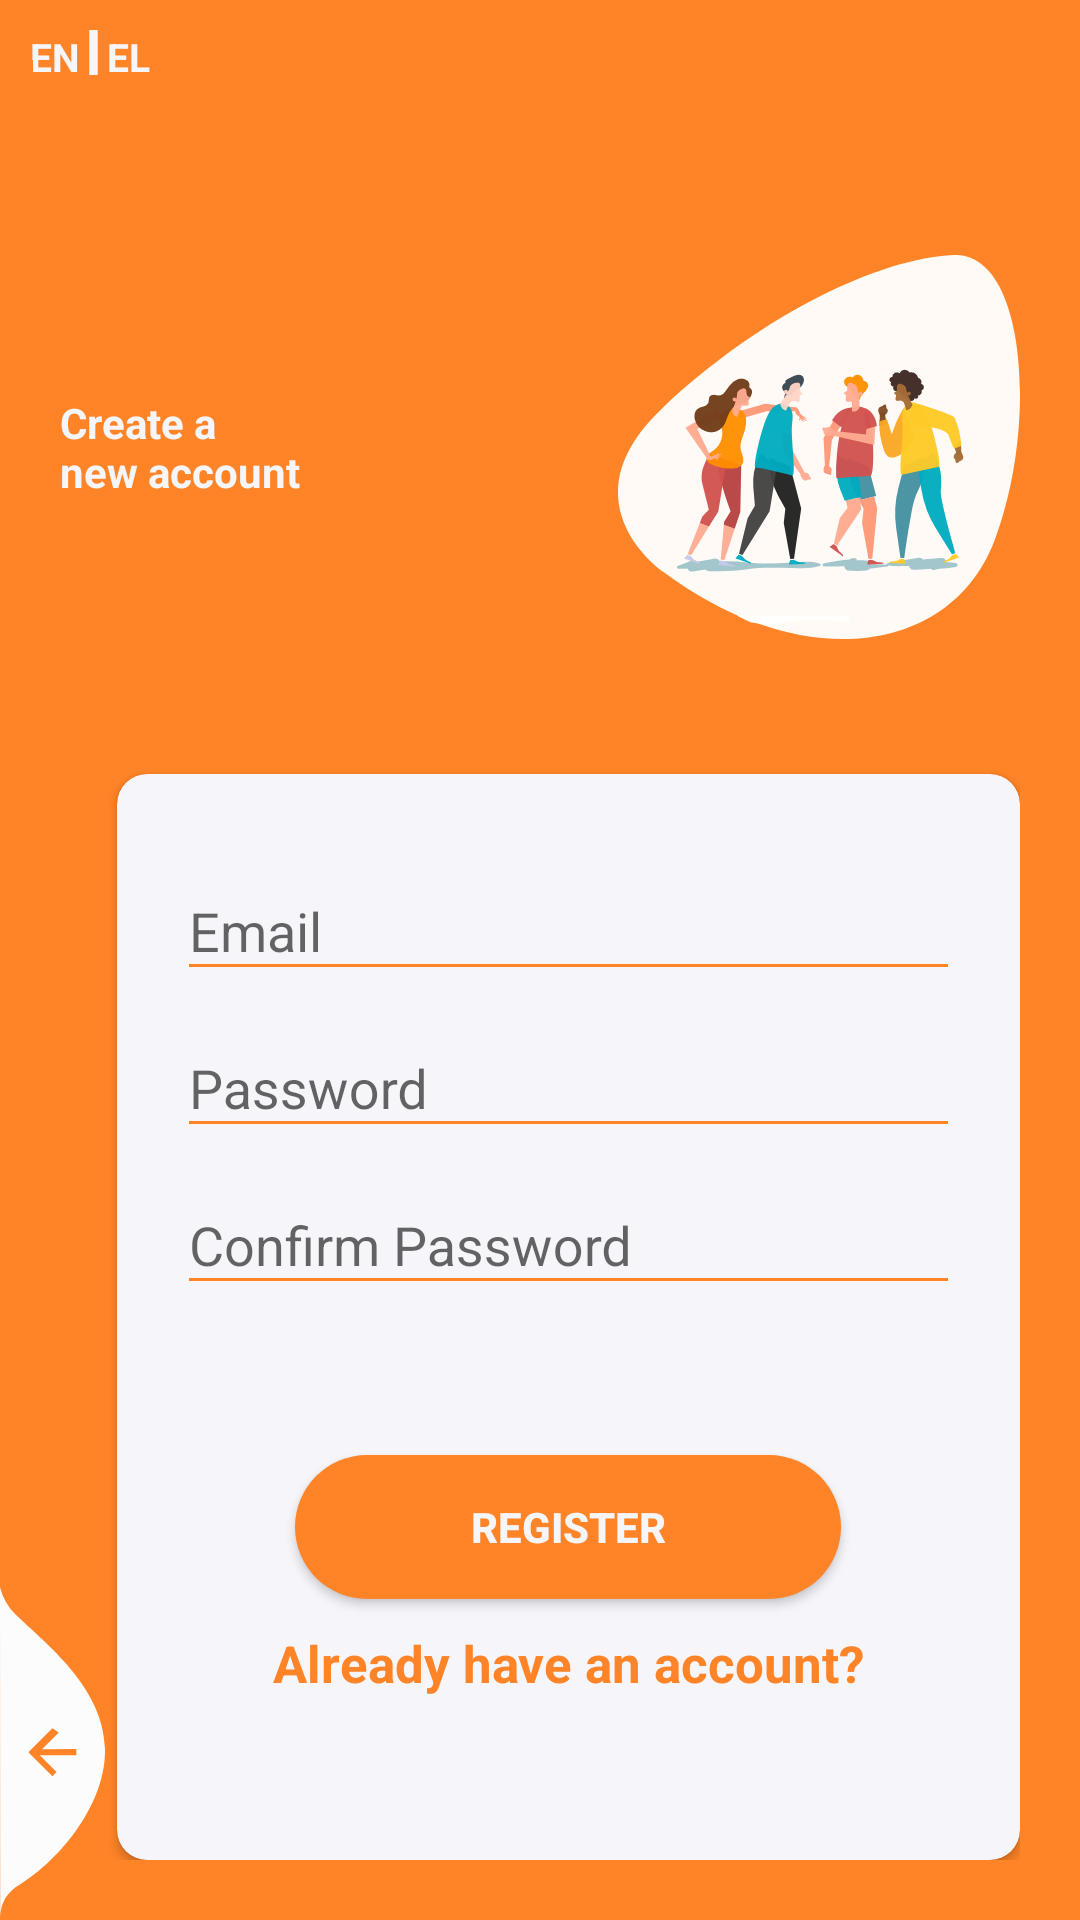

Icon bounding boxes for this 1080*1920 phone screenshot, format (left=x1, top=y1, right=x2, bottom=y2):
back: (left=0, top=1587, right=105, bottom=1916)
